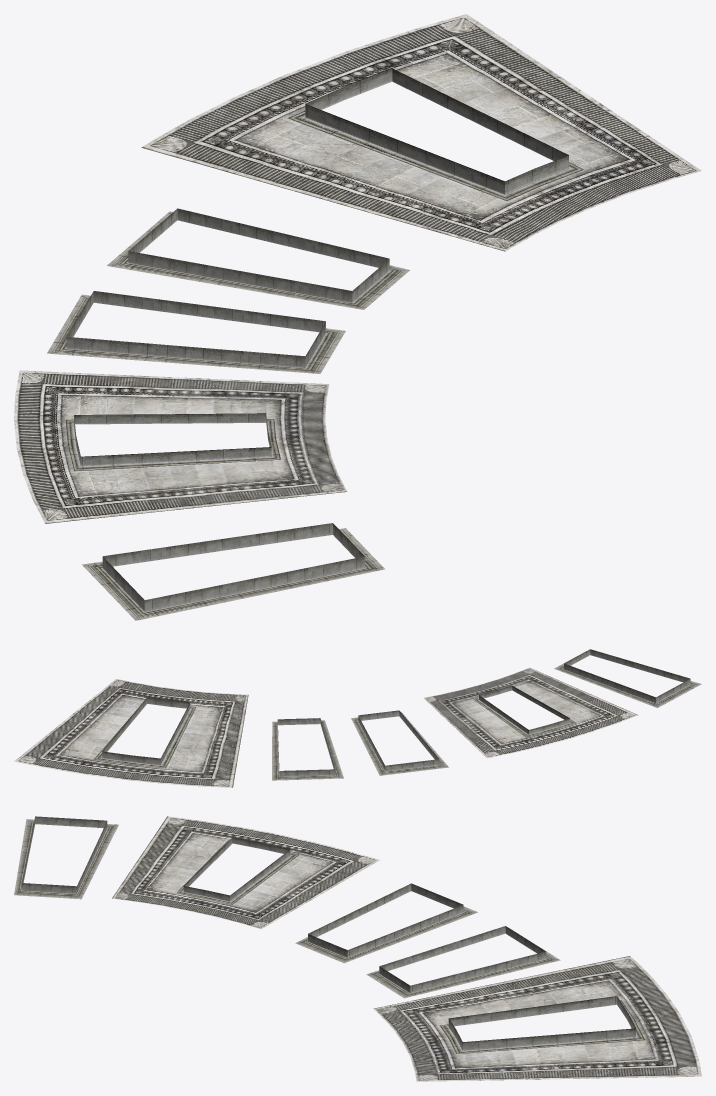
The model's file is Hallway_Ceiling.FBX.
3 views of the same model, one above another, from view 1: azimuth 30°, elevation 25°; view 2: azimuth 150°, elevation 25°; view 3: azimuth 270°, elevation 25° (orthographic). The views are drawn at different scales.
Parts seen in each view (by area): view 1: SM_L_Hallway_Ceiling; view 2: SM_L_Hallway_Ceiling; view 3: SM_L_Hallway_Ceiling.
Boxes of the visible parts, x1,y1,x2,y2 form: SM_L_Hallway_Ceiling: (14,14,701,620); SM_L_Hallway_Ceiling: (14,649,701,787); SM_L_Hallway_Ceiling: (14,816,701,1081).
Size of what is drawn, in the model's own units: 2163 by 2289 by 76.72.
